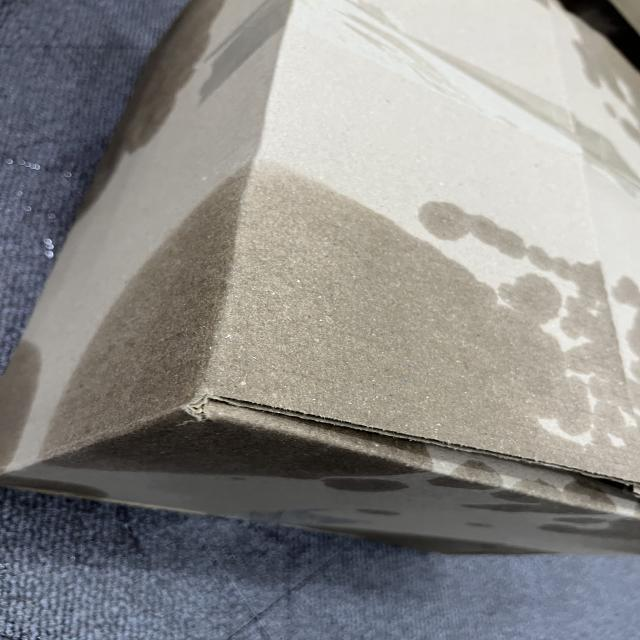wet: (0, 164, 640, 537)
